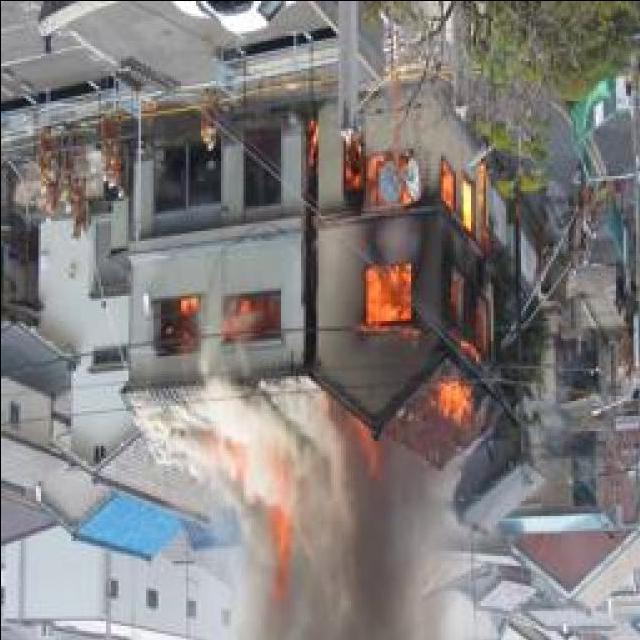Fire: (348, 138, 498, 434), (150, 292, 280, 340), (266, 504, 290, 584)
